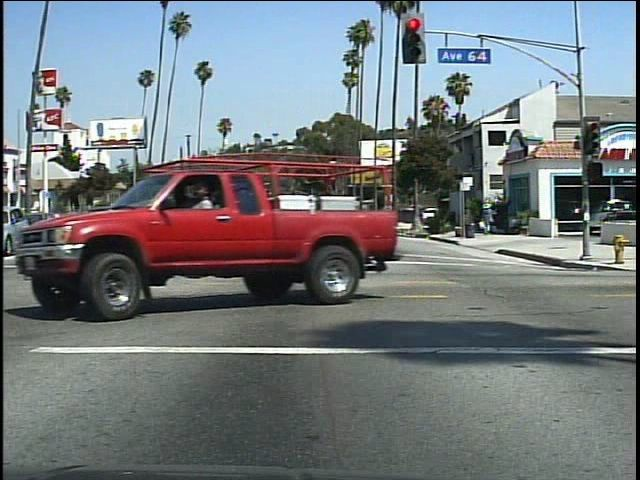person: (189, 176, 231, 303), (479, 199, 498, 237)
